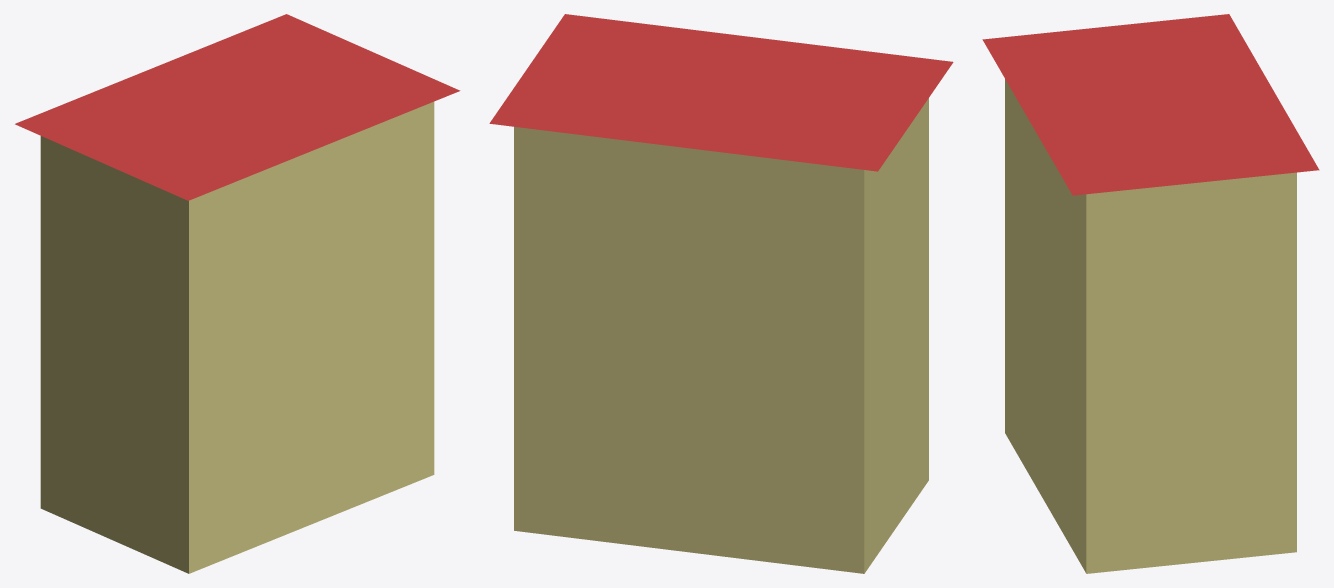
The picture shows the model from 3 angles, left to right: view 1: azimuth 30°, elevation 25°; view 2: azimuth 150°, elevation 25°; view 3: azimuth 270°, elevation 25°; orthographic projection. The views are drawn at different scales.
Size of the model in its own units: 5.72 by 4.48 by 5.69.
